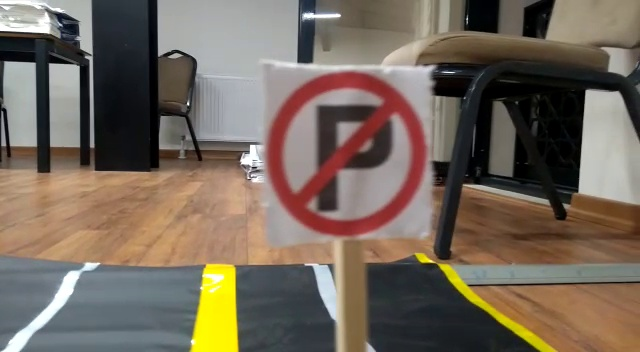park_yapilmaz: (260, 61, 427, 233)
